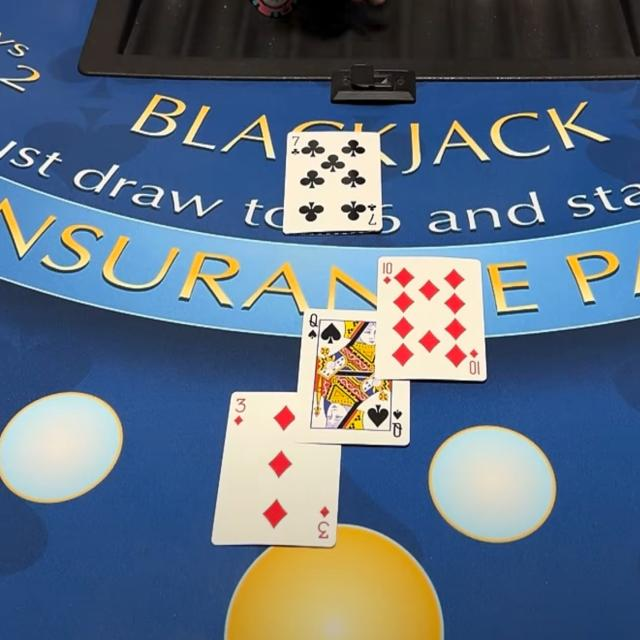10: (380, 260, 394, 275)
3: (232, 393, 249, 415)
7: (290, 132, 302, 148)
Q: (306, 312, 321, 328)
